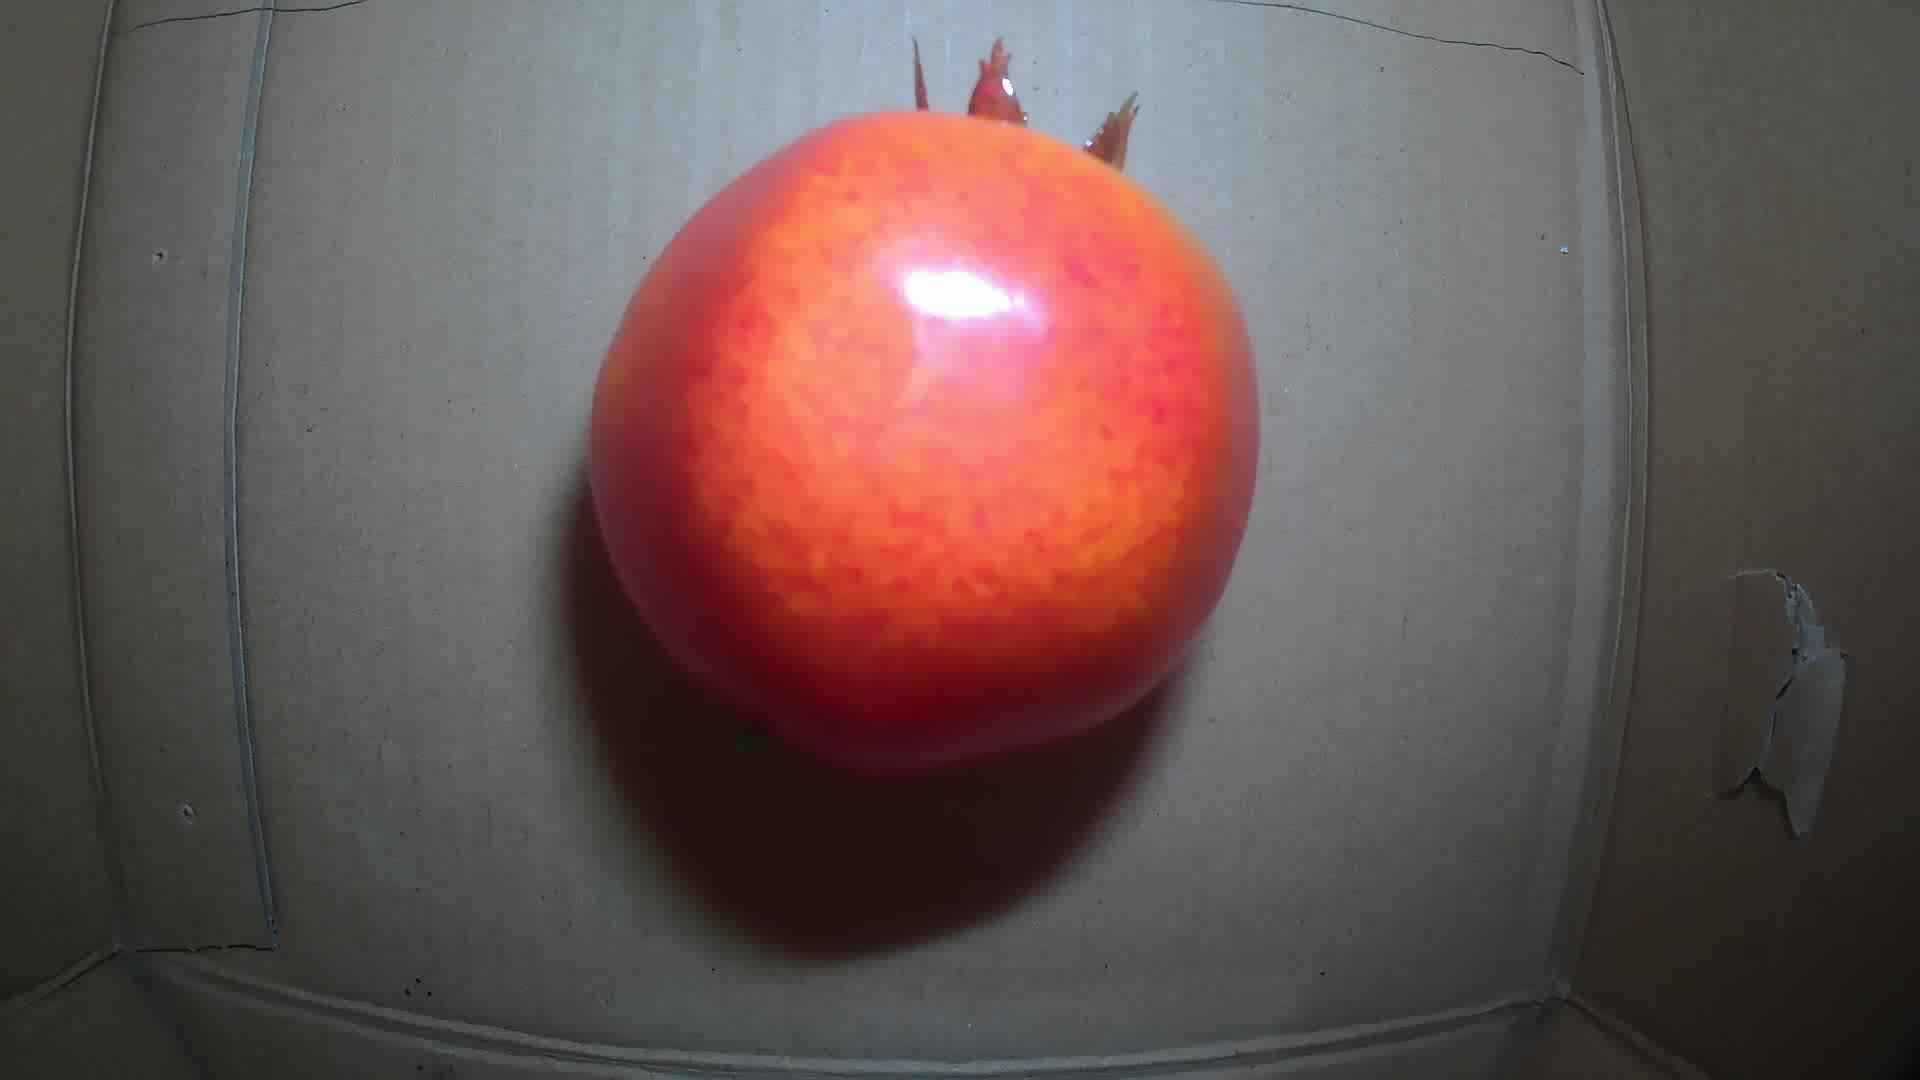pomegranate: (579, 36, 1262, 775)
